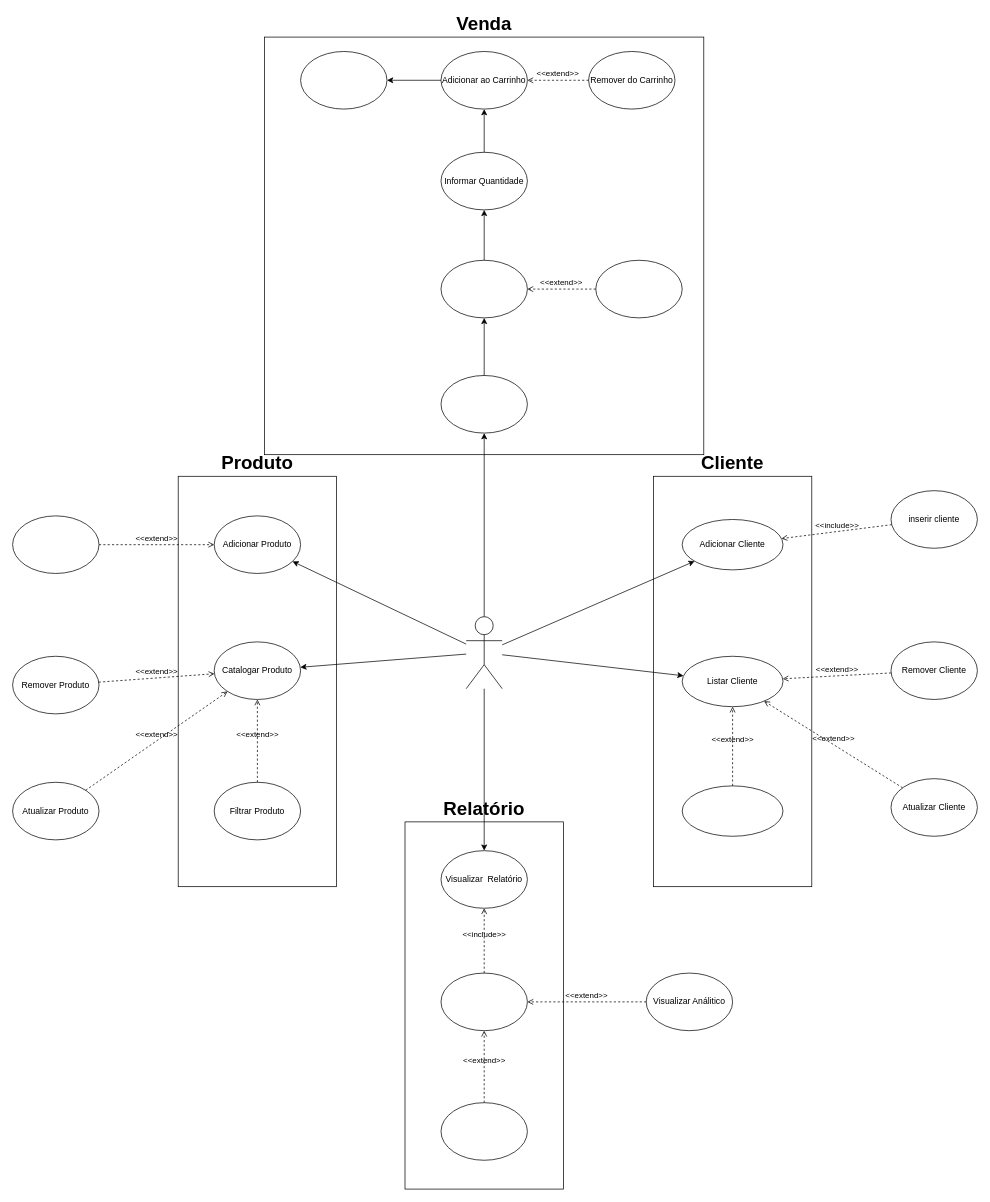
Some shapes in this 990 by 1202 pixel diagram are drawn without their labels. The box of each missing label's shape, as (x1, y1, x2, y2) in pixels:
Buscar Cliente: (681, 785, 783, 836)
Escolher Produto: (440, 260, 527, 318)
Finalizar Compra: (300, 51, 387, 109)
Funcionario: (465, 616, 502, 689)
Inserir Produto: (12, 515, 99, 573)
Pesquisar Produto: (595, 260, 682, 318)
Selecionar Cliente: (440, 375, 527, 433)
selecionar Período: (440, 1102, 527, 1160)
Visualizar Sintético: (440, 972, 527, 1031)
